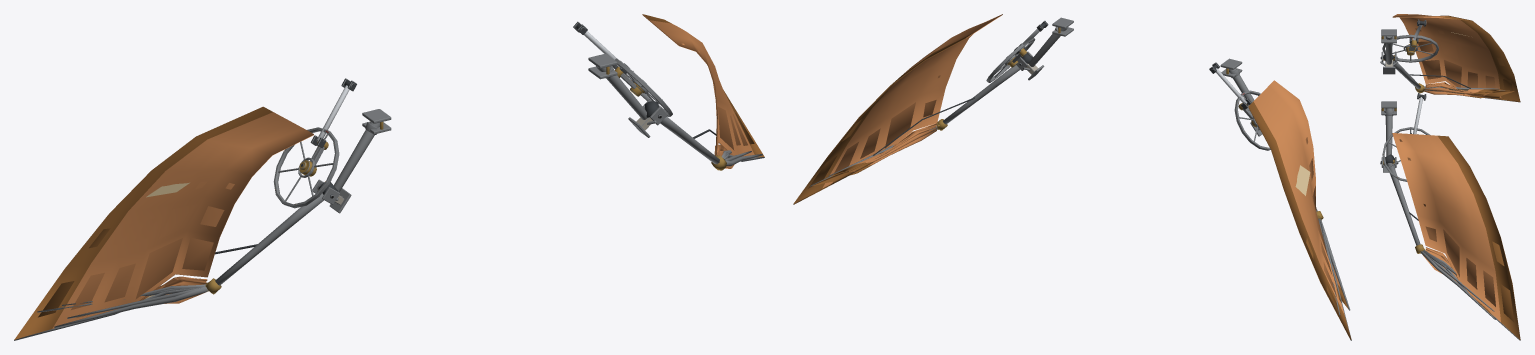
File: ornithopter_worn_on_person.fbx
3 renders of one model, left to right at view 1: azimuth 30°, elevation 25°; view 2: azimuth 150°, elevation 25°; view 3: azimuth 270°, elevation 25°, orthographic. The views are drawn at different scales.
Visible parts, largest first — view 1: Mesh_OrniWorn_Wing_L_Web, Mesh_OrniWorn_Wing_L_Frame, Mesh_OrniWorn_Wing_R_Web, Mesh_OrniWorn_Gear_L, Mesh_OrniWorn_Wing_R_Frame, Mesh_OrniWorn_Clamp_L, Mesh_OrniWorn_Clamp_R, Mesh_OrniWorn_Crank_L, Mesh_OrniWorn_Gear_R, Mesh_OrniWorn_Crank_R; view 2: Mesh_OrniWorn_Wing_R_Web, Mesh_OrniWorn_Wing_L_Web, Mesh_OrniWorn_Wing_R_Frame, Mesh_OrniWorn_Clamp_R, Mesh_OrniWorn_Wing_L_Frame, Mesh_OrniWorn_Clamp_L, Mesh_OrniWorn_Gear_L, Mesh_OrniWorn_Gear_R, Mesh_OrniWorn_Crank_L; view 3: Mesh_OrniWorn_Wing_R_Web, Mesh_OrniWorn_Wing_L_Web, Mesh_OrniWorn_Wing_R_Frame, Mesh_OrniWorn_Wing_L_Frame, Mesh_OrniWorn_Gear_L, Mesh_OrniWorn_Clamp_R, Mesh_OrniWorn_Clamp_L, Mesh_OrniWorn_Gear_R, Mesh_OrniWorn_Crank_L, Mesh_OrniWorn_Bearing_L, Mesh_OrniWorn_Crank_R.
Boxes of the visible parts, box(x1,y1,x2,y2) form: Mesh_OrniWorn_Wing_L_Web: box(14, 106, 313, 339); Mesh_OrniWorn_Wing_L_Frame: box(14, 182, 337, 340); Mesh_OrniWorn_Wing_R_Web: box(642, 14, 764, 168); Mesh_OrniWorn_Gear_L: box(273, 127, 339, 208); Mesh_OrniWorn_Wing_R_Frame: box(644, 101, 764, 170); Mesh_OrniWorn_Clamp_L: box(334, 109, 391, 192); Mesh_OrniWorn_Clamp_R: box(588, 53, 647, 119); Mesh_OrniWorn_Crank_L: box(309, 78, 356, 176); Mesh_OrniWorn_Gear_R: box(612, 58, 672, 116); Mesh_OrniWorn_Crank_R: box(573, 21, 641, 96); Mesh_OrniWorn_Wing_R_Web: box(793, 14, 1002, 204); Mesh_OrniWorn_Wing_L_Web: box(1248, 80, 1351, 339); Mesh_OrniWorn_Wing_R_Frame: box(793, 54, 1032, 204); Mesh_OrniWorn_Clamp_R: box(1029, 17, 1073, 66); Mesh_OrniWorn_Wing_L_Frame: box(1316, 208, 1351, 340); Mesh_OrniWorn_Clamp_L: box(1220, 58, 1254, 102); Mesh_OrniWorn_Gear_L: box(1234, 90, 1270, 150); Mesh_OrniWorn_Gear_R: box(986, 38, 1035, 82); Mesh_OrniWorn_Crank_L: box(1209, 62, 1256, 127); Mesh_OrniWorn_Wing_R_Web: box(1392, 133, 1520, 339); Mesh_OrniWorn_Wing_L_Web: box(1392, 14, 1520, 102); Mesh_OrniWorn_Wing_R_Frame: box(1384, 154, 1520, 340); Mesh_OrniWorn_Wing_L_Frame: box(1383, 54, 1520, 102); Mesh_OrniWorn_Gear_L: box(1382, 34, 1438, 62); Mesh_OrniWorn_Clamp_R: box(1381, 101, 1396, 156); Mesh_OrniWorn_Clamp_L: box(1381, 29, 1396, 64); Mesh_OrniWorn_Gear_R: box(1382, 127, 1430, 181); Mesh_OrniWorn_Crank_L: box(1407, 19, 1426, 55); Mesh_OrniWorn_Bearing_L: box(1380, 51, 1398, 74); Mesh_OrniWorn_Crank_R: box(1410, 92, 1426, 134).
Bounding box in the file's own units: 551 × 178 × 137.
